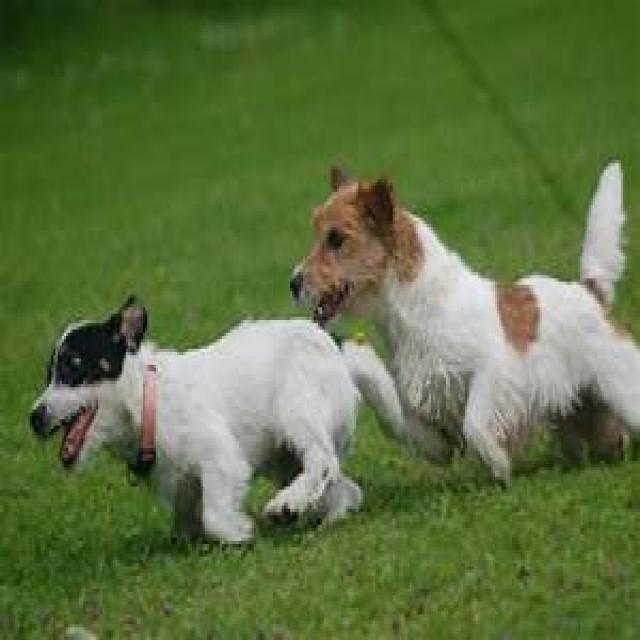dog: (291, 164, 640, 481), (31, 296, 403, 543)
